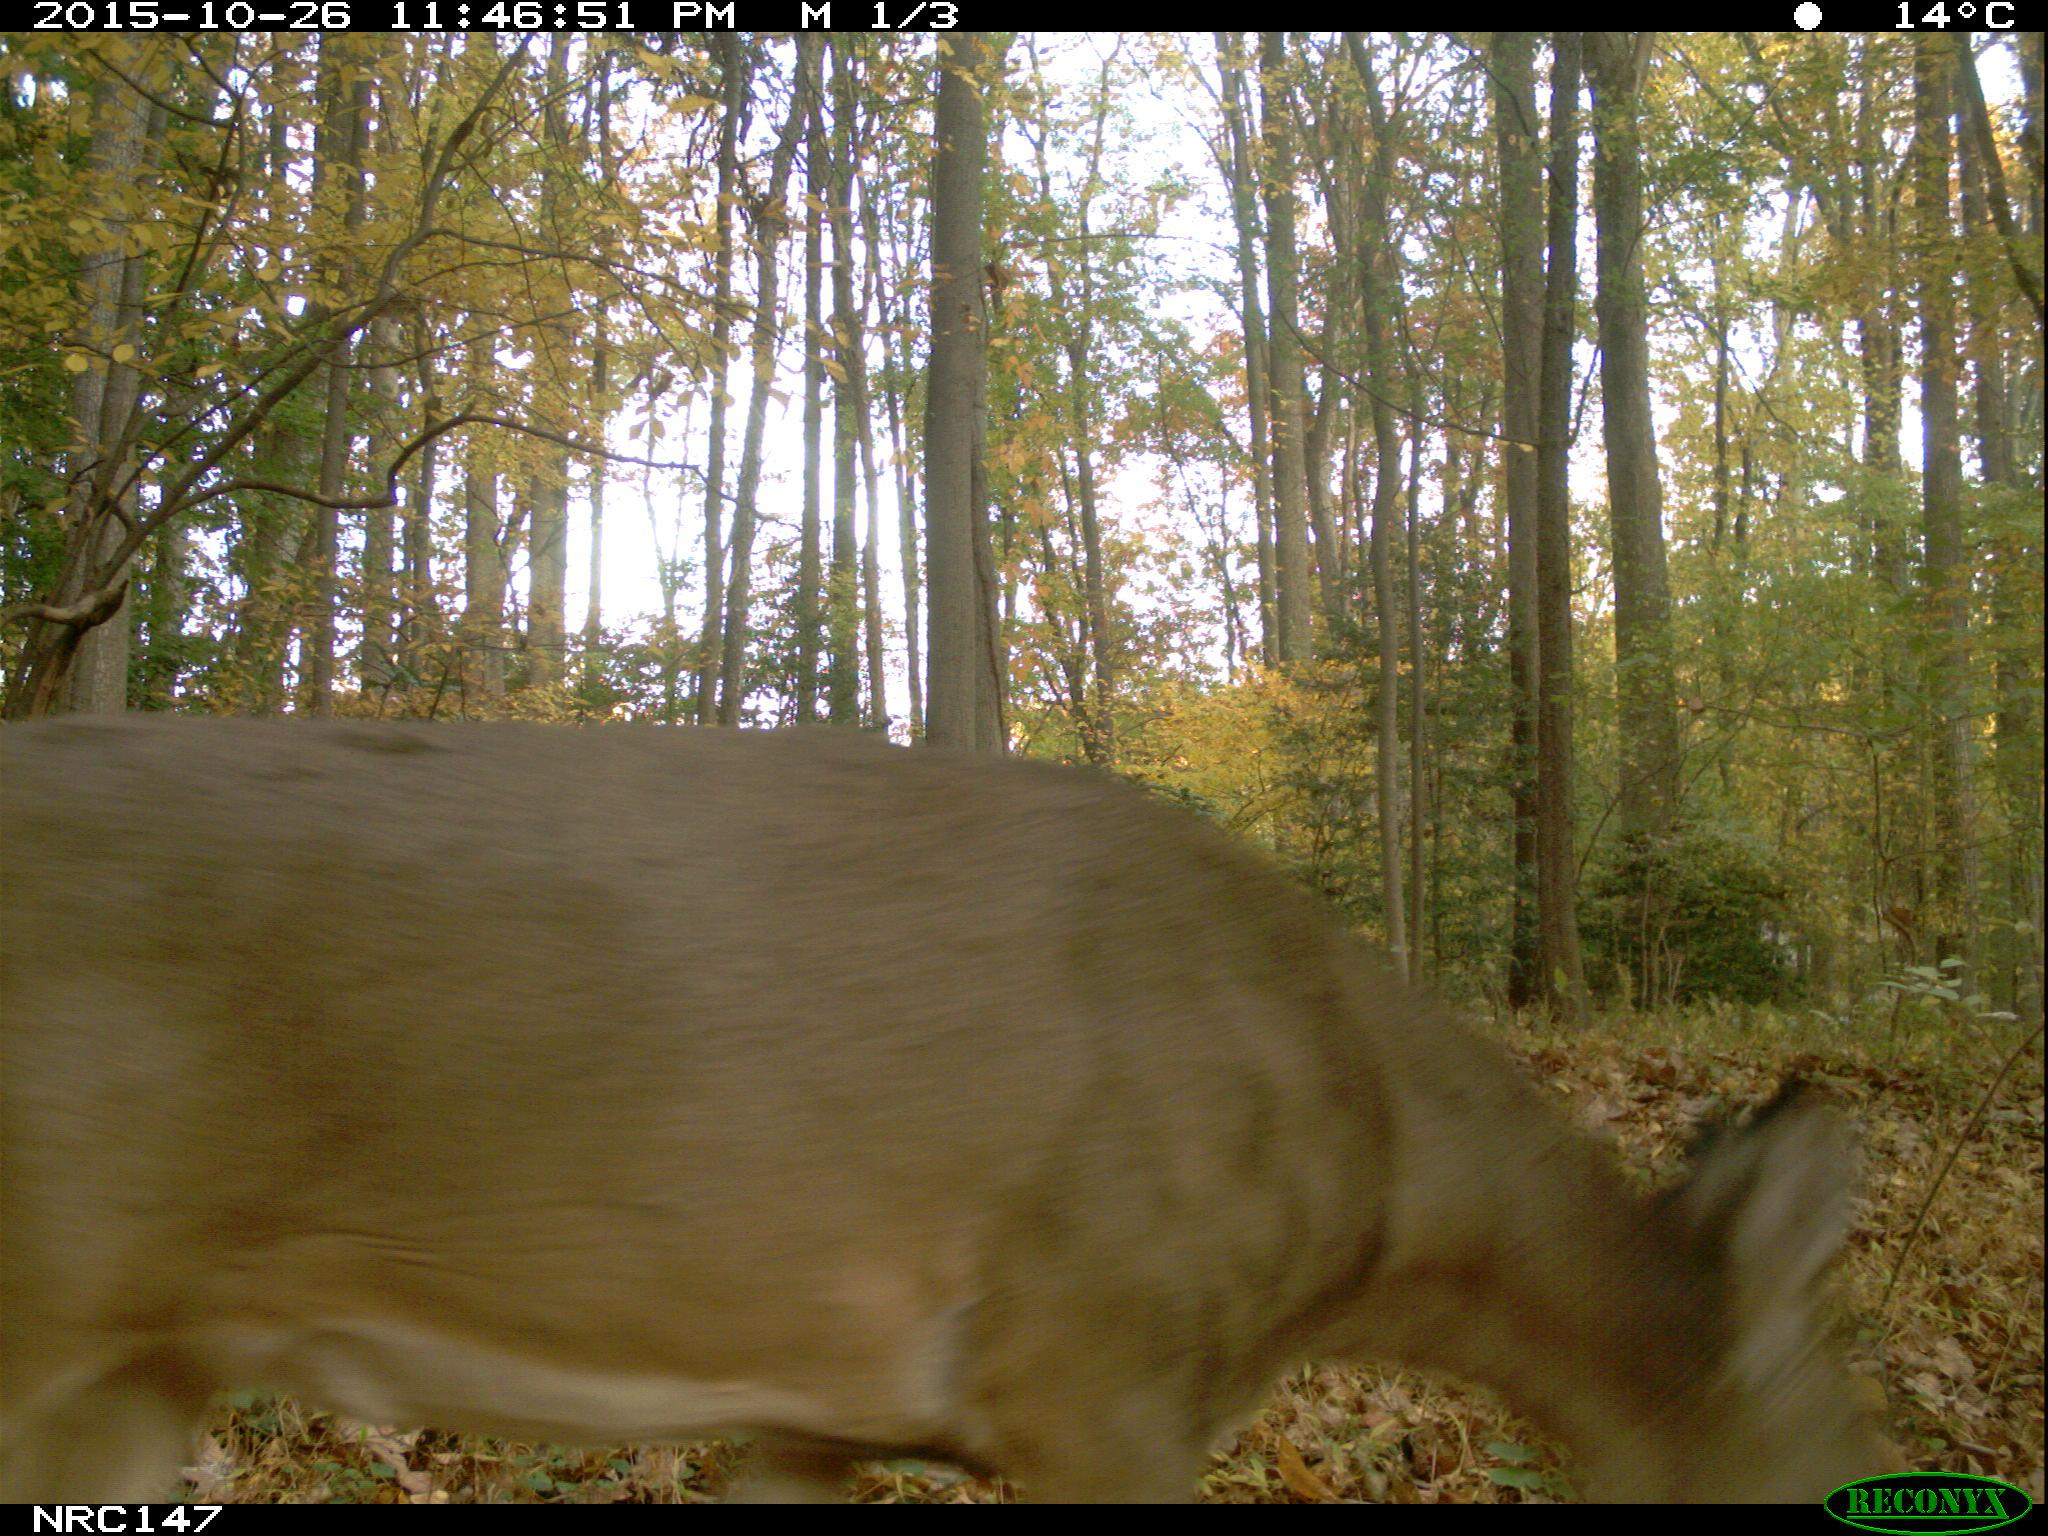Animal: (2, 708, 1880, 1497)
